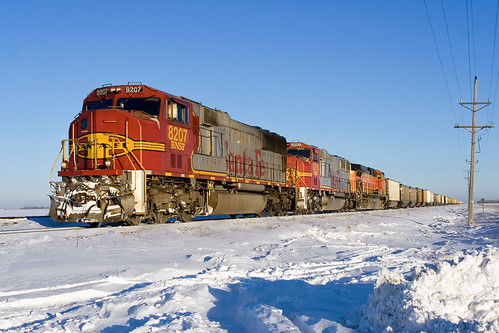power pole: (450, 88, 491, 226)
sky: (13, 1, 499, 125)
train: (45, 86, 455, 224)
